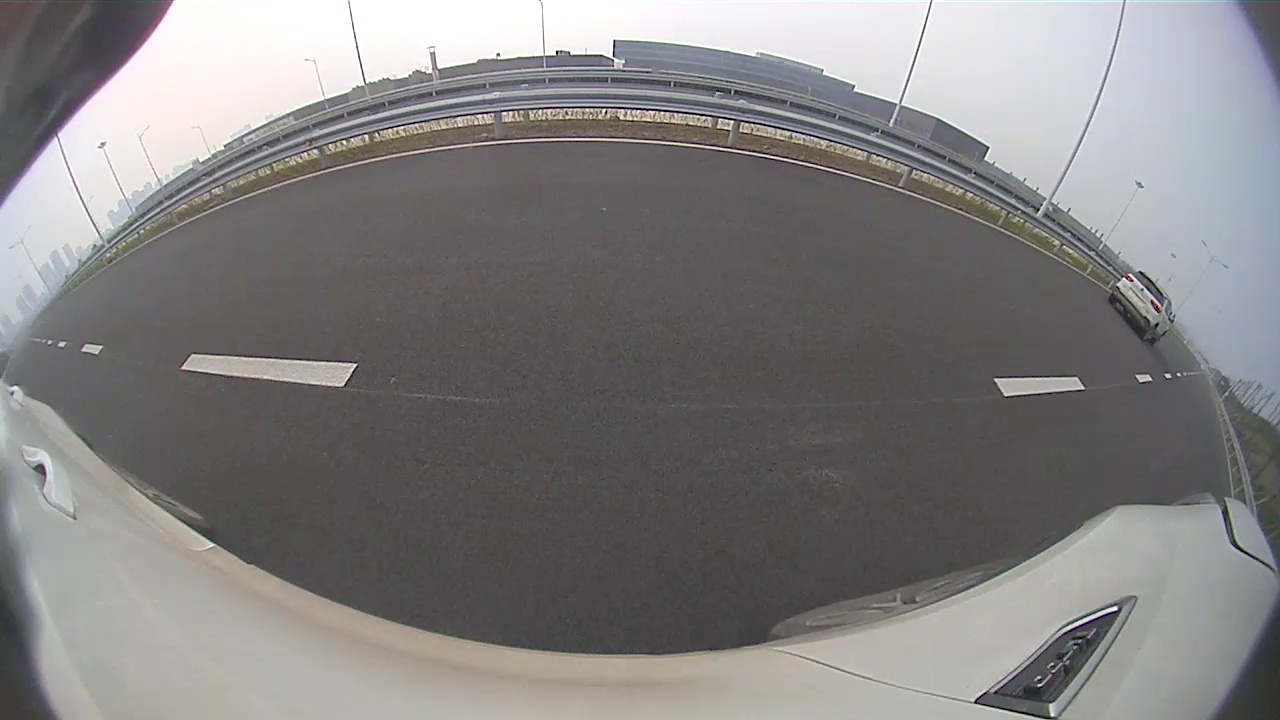car: (1109, 271, 1175, 343)
